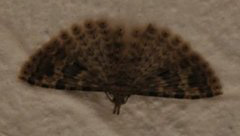Alucitidae: (13, 12, 225, 115)
moth: (15, 14, 227, 117)
